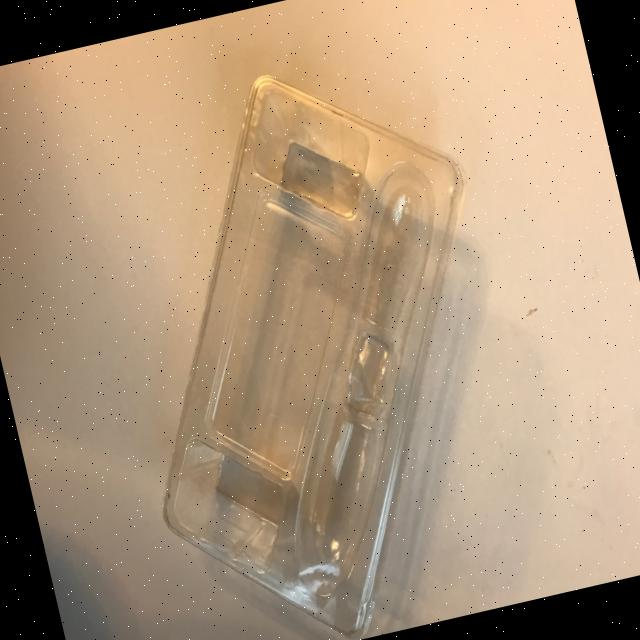plastic: (70, 34, 561, 640)
